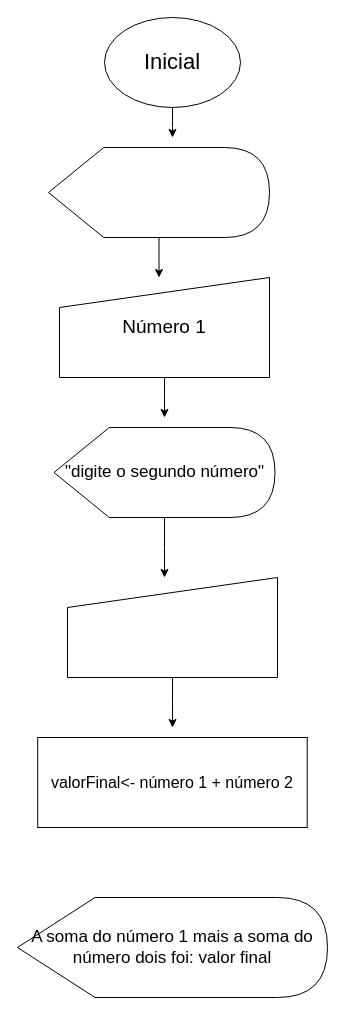
Image size: 345x1015. Some labels were removed from this diagram. The shapes that lost their labels are listed below. From the top down, each one's box as (x1, y1, x2, y2) in pixels, then its label:
(48, 146, 270, 238): "digite o primeiro número"
(66, 576, 278, 678): Número 2
